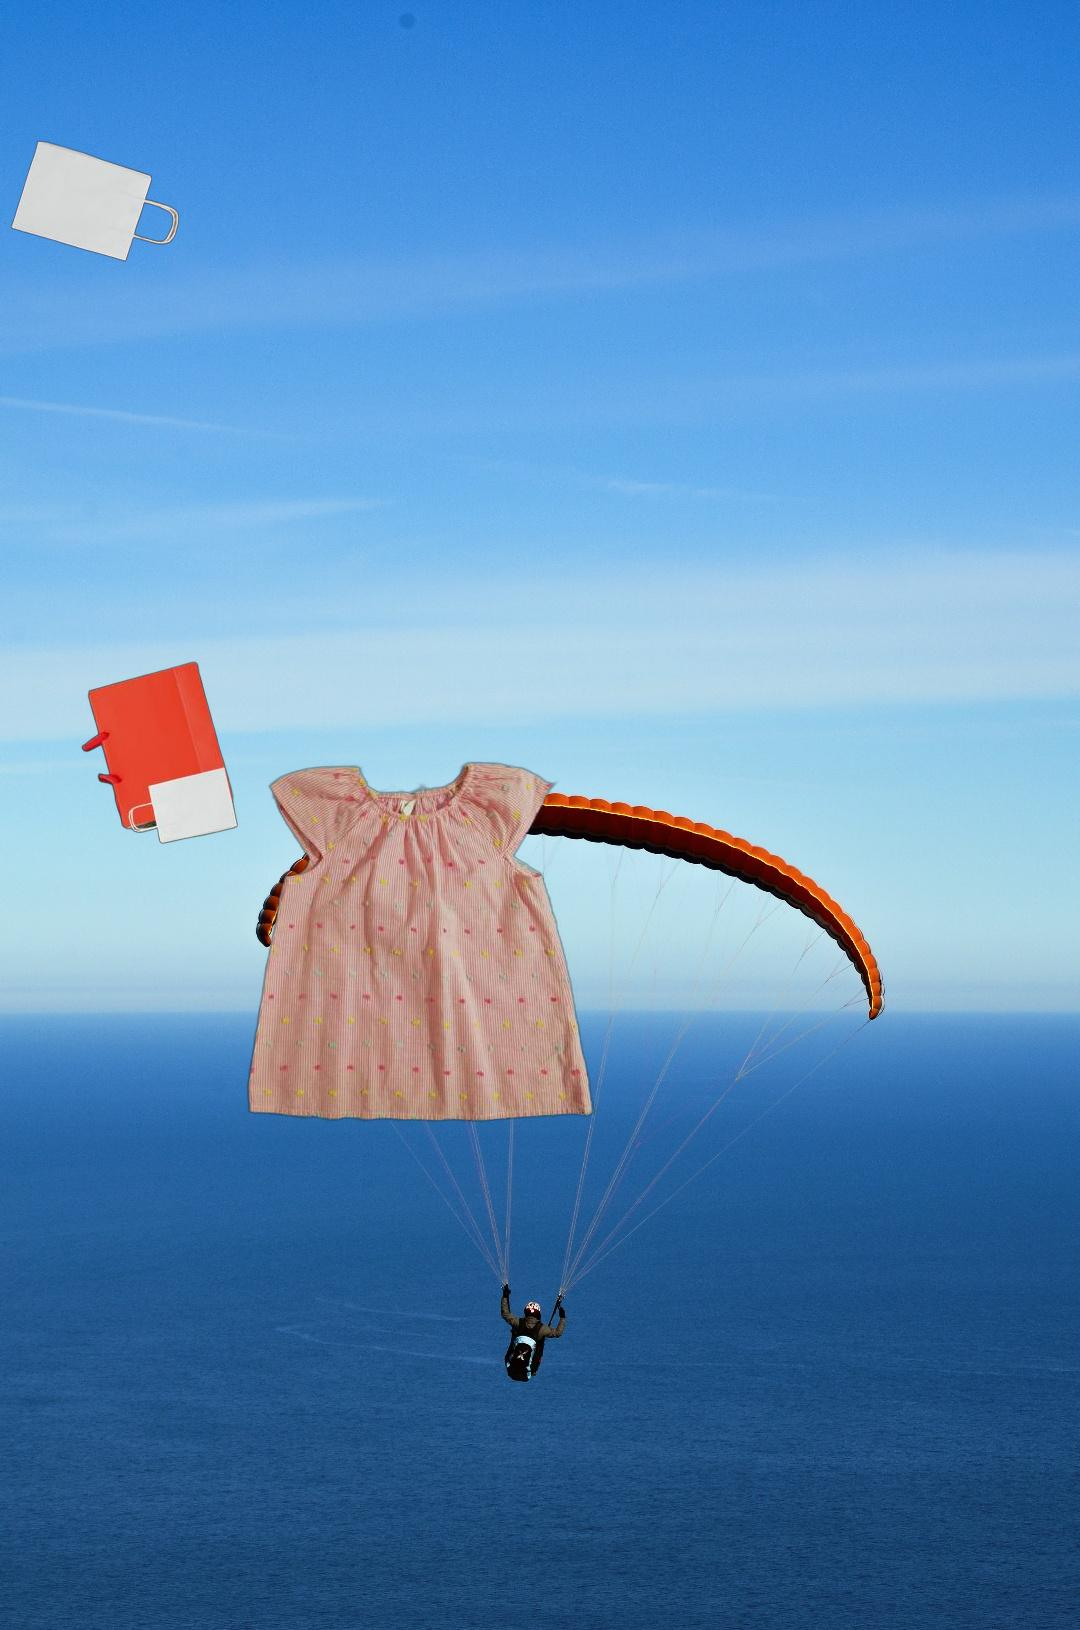clothes: (243, 755, 604, 1124)
paper-bag: (81, 661, 241, 846), (8, 139, 180, 264)
